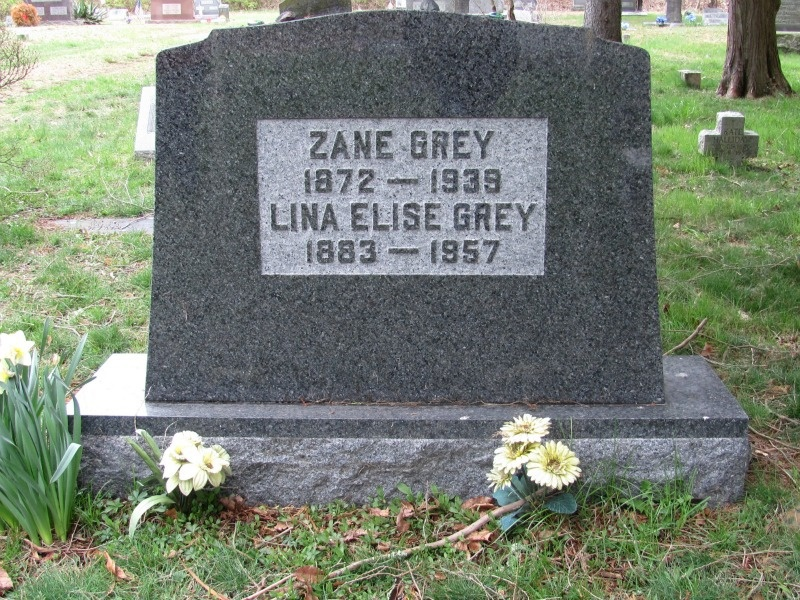text: (404, 130, 419, 161), (420, 130, 435, 161), (436, 130, 451, 161), (452, 130, 467, 161), (468, 130, 483, 161), (484, 130, 499, 161), (265, 202, 280, 233), (281, 202, 296, 233), (297, 202, 312, 233), (313, 202, 328, 233), (329, 202, 344, 233), (303, 130, 318, 161), (319, 130, 334, 161), (335, 130, 350, 161), (351, 130, 366, 161), (367, 130, 382, 161), (383, 130, 398, 161), (447, 202, 462, 233), (463, 202, 478, 233), (479, 202, 494, 233), (495, 202, 510, 233), (511, 202, 526, 233), (527, 202, 542, 233), (348, 202, 363, 232), (364, 202, 379, 232), (380, 202, 395, 232), (396, 202, 411, 232), (412, 202, 427, 232), (428, 202, 443, 232), (301, 168, 316, 196), (317, 168, 332, 196), (333, 168, 348, 196), (349, 168, 364, 196), (365, 168, 380, 196), (302, 238, 317, 266), (318, 238, 333, 266), (334, 238, 349, 266), (350, 238, 365, 266), (366, 238, 381, 266), (427, 167, 442, 194), (443, 167, 458, 194), (459, 167, 474, 194), (475, 167, 490, 194), (491, 167, 506, 194), (424, 239, 439, 266), (440, 239, 455, 266), (456, 239, 471, 266), (472, 239, 487, 266), (488, 239, 503, 266), (379, 246, 394, 257), (395, 246, 410, 257), (411, 246, 426, 257), (378, 178, 393, 187), (394, 178, 409, 187), (410, 178, 425, 187)
